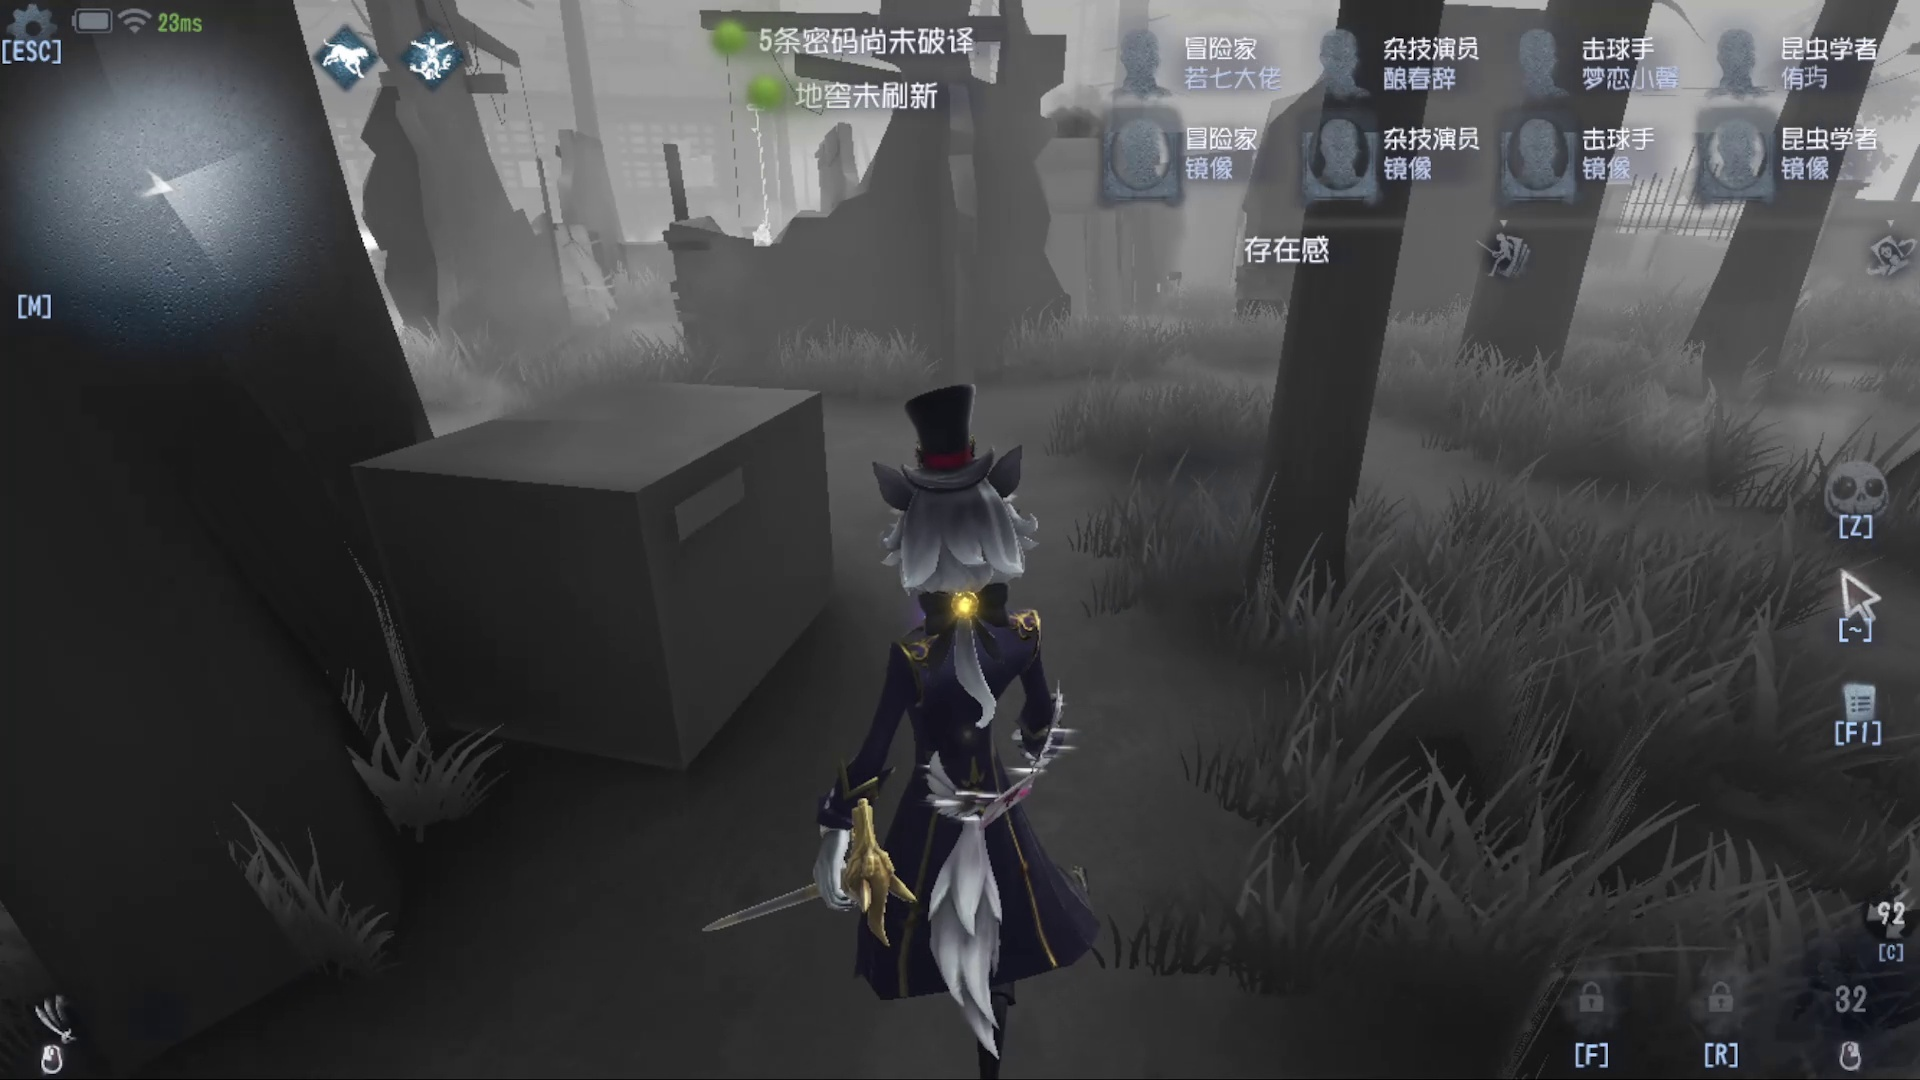密码机: (736, 99, 810, 266)
